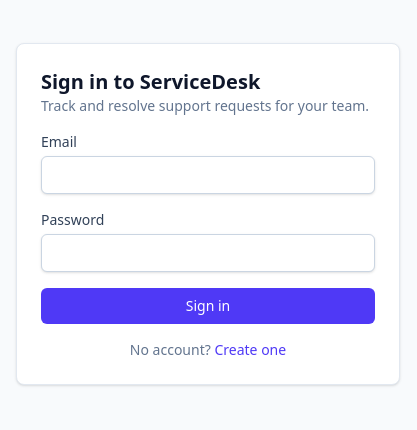
LoginPage › shows a clear message on bad credentials
Type "user@acme.test" into the field labelled "Email".
click(208, 175); type("user@acme.test")  # box [41,156,375,194]
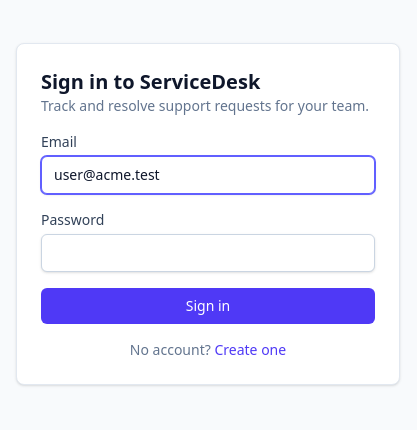
Type "wrong" into the password field labelled "Password".
click(208, 253); type("wrong")  # box [41,234,375,272]
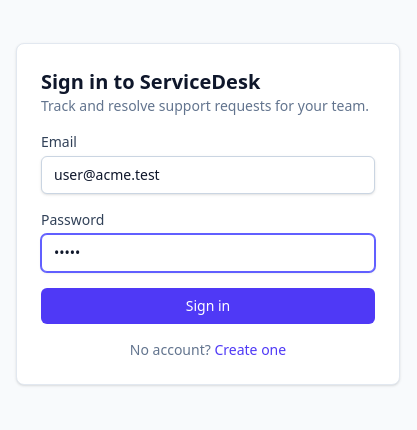
Click the button "Sign in".
click(208, 306)  # box [41,288,375,324]
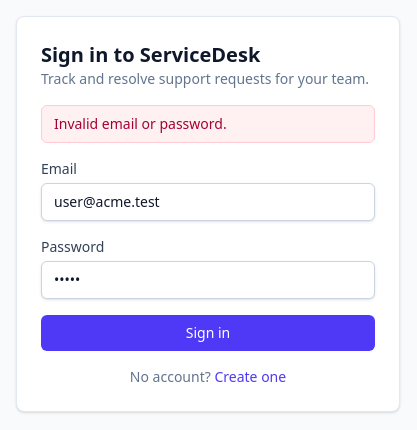
Result: the message reads "Invalid email or password." at [54,114,227,133]
